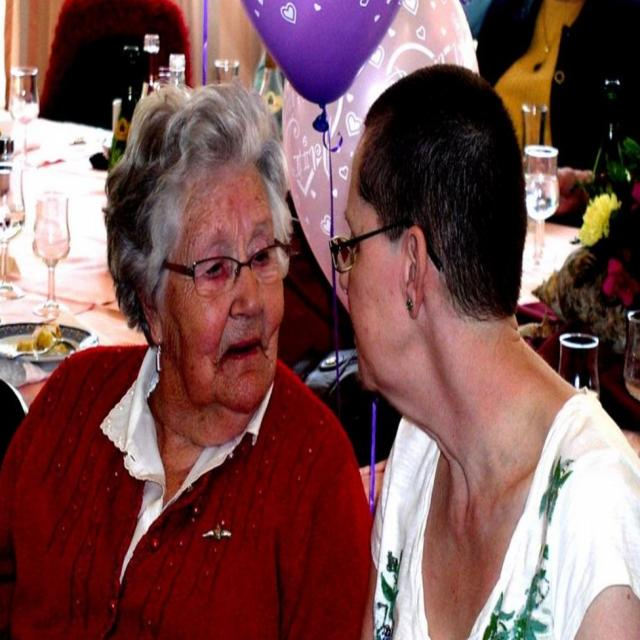Glasses: (165, 238, 292, 291), (328, 218, 444, 274)
